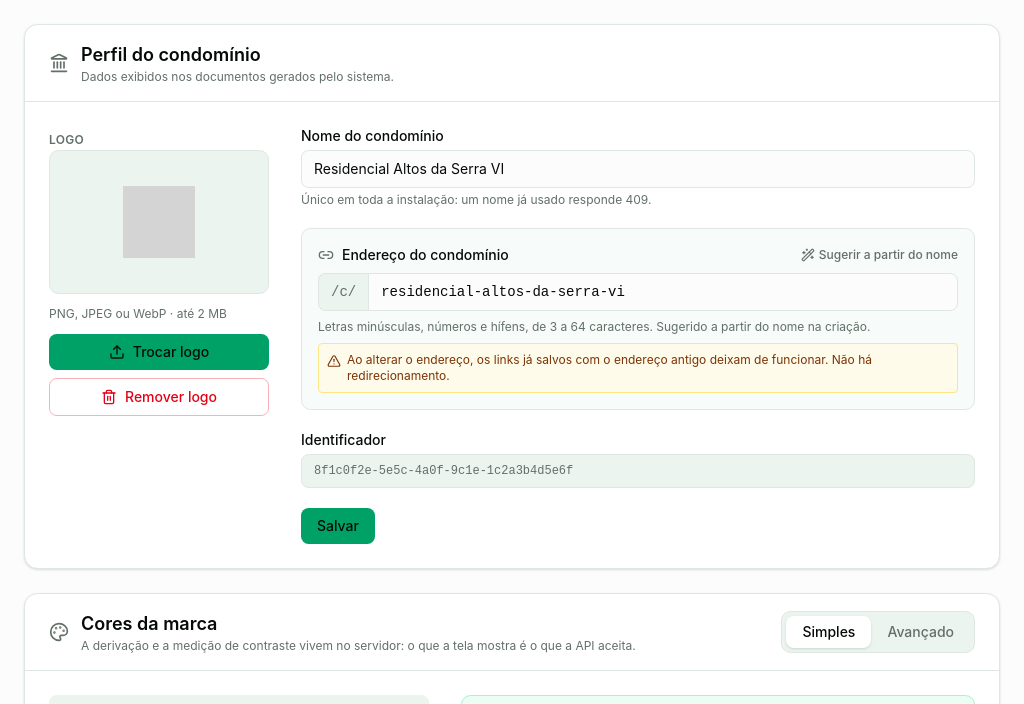
Test case: TenantProfilePage › removes the logo through DELETE and falls back to the placeholder
The image size is (1024, 704).
Step 1. Click the button "Remover logo" → (159, 397), box [49,378,269,416]
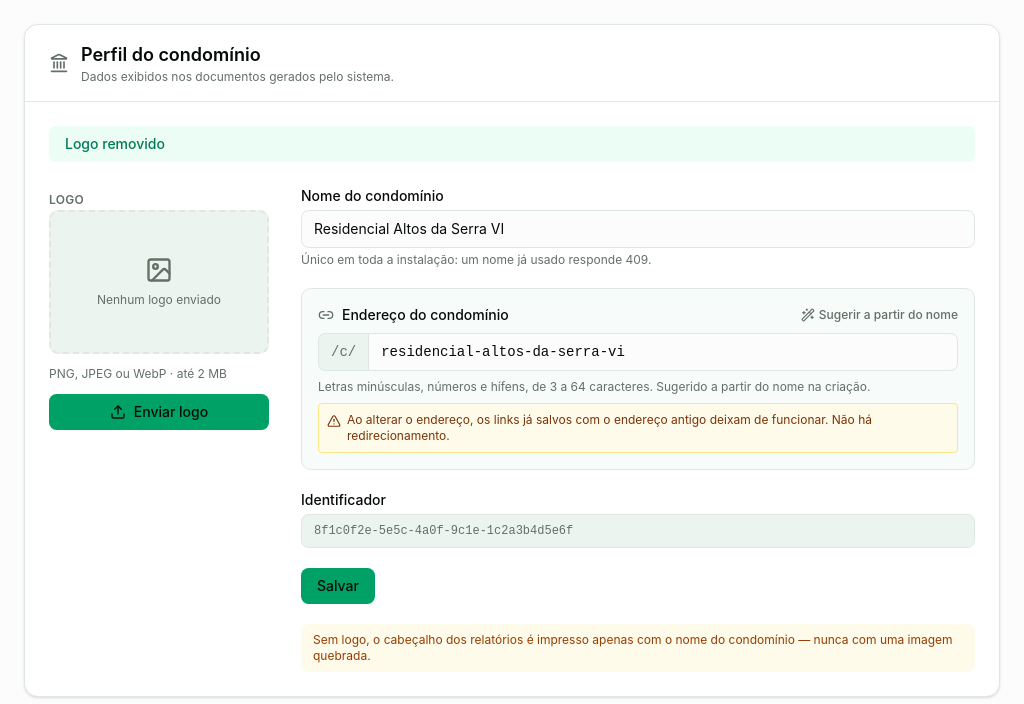
Expected: the text "Nenhum logo enviado" is shown, [97,292,221,308]
